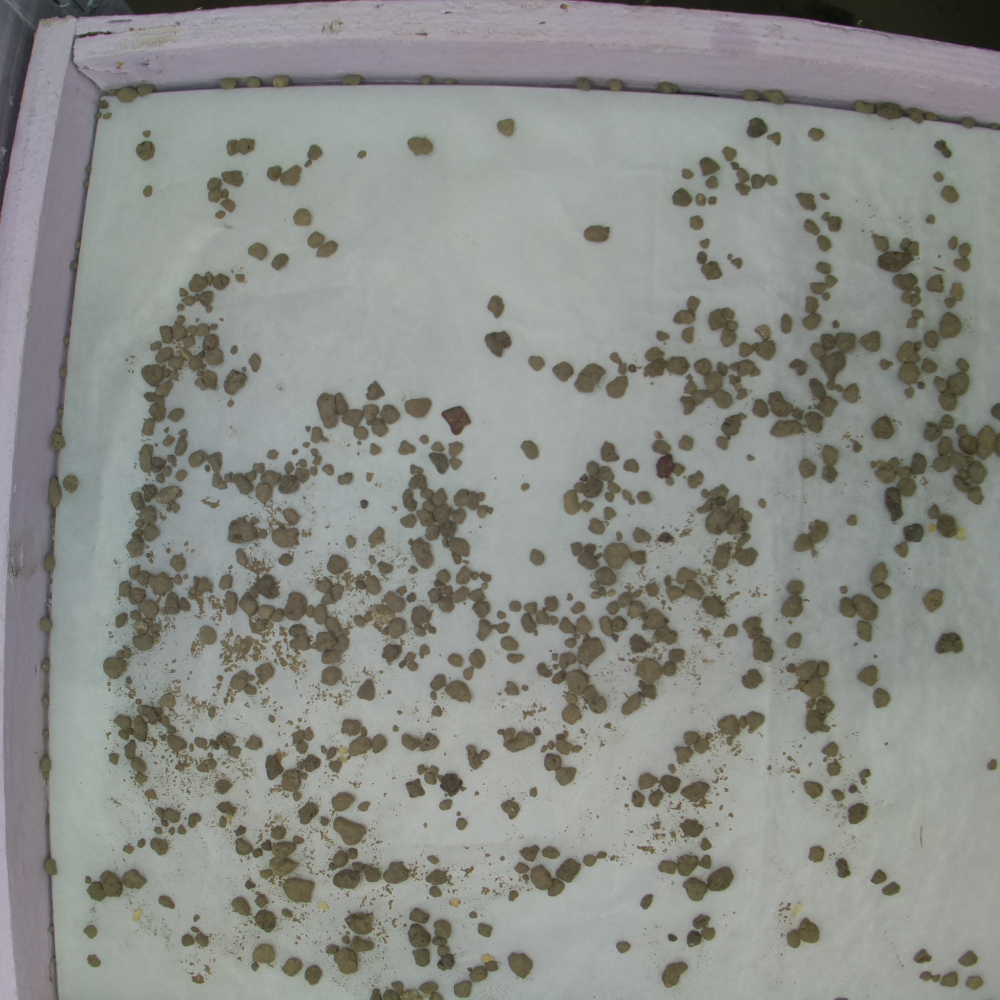mitti: (803, 707, 836, 737), (574, 364, 606, 393), (442, 407, 472, 435), (335, 818, 365, 844), (227, 518, 258, 543), (878, 251, 913, 273), (485, 331, 514, 357), (283, 879, 314, 903), (317, 393, 337, 429), (975, 424, 996, 458), (885, 487, 904, 523), (333, 947, 358, 974), (935, 631, 964, 654), (411, 537, 433, 567), (555, 858, 580, 884), (662, 962, 687, 988), (823, 351, 847, 378), (722, 413, 746, 440), (603, 543, 630, 567), (751, 636, 775, 663), (706, 867, 733, 891), (706, 507, 729, 535), (505, 732, 535, 753), (258, 573, 283, 598), (577, 638, 599, 666), (285, 591, 306, 620), (344, 913, 373, 934), (854, 595, 879, 619), (447, 679, 471, 704), (565, 669, 589, 694), (718, 715, 744, 738), (684, 878, 710, 901), (509, 952, 532, 978), (404, 398, 433, 418), (768, 392, 792, 416), (638, 658, 661, 683), (530, 865, 553, 890), (437, 772, 462, 795), (871, 416, 897, 438), (148, 574, 174, 596), (941, 312, 962, 339), (683, 782, 710, 803), (382, 863, 409, 884), (771, 420, 804, 437), (704, 595, 727, 619), (269, 857, 298, 876), (224, 369, 246, 394), (644, 609, 669, 631), (619, 693, 644, 715), (100, 871, 122, 896), (966, 457, 986, 484), (575, 478, 603, 497), (271, 528, 299, 547), (606, 374, 628, 398), (652, 455, 674, 479), (796, 659, 818, 683), (796, 679, 826, 696), (428, 451, 450, 474), (780, 595, 804, 616), (744, 710, 765, 734), (712, 544, 732, 569), (800, 919, 820, 944), (334, 869, 359, 889), (893, 273, 920, 291), (282, 164, 303, 187), (315, 633, 338, 654), (320, 667, 343, 688), (408, 925, 431, 946), (409, 137, 433, 157), (585, 224, 611, 242), (553, 361, 575, 382), (948, 372, 969, 394), (448, 536, 470, 557), (104, 658, 126, 679), (743, 617, 764, 639), (677, 855, 698, 877), (711, 390, 734, 410), (136, 598, 159, 618), (924, 589, 944, 612), (348, 738, 371, 758), (272, 842, 296, 861), (113, 85, 138, 103), (142, 365, 163, 386), (898, 342, 920, 362), (900, 363, 920, 385), (372, 604, 394, 624), (333, 792, 355, 812), (281, 769, 301, 791), (202, 347, 225, 366), (499, 801, 522, 820), (665, 357, 690, 374), (380, 404, 401, 424), (233, 473, 253, 494), (384, 592, 404, 613), (562, 704, 582, 725), (299, 802, 319, 823), (795, 193, 817, 212), (758, 339, 777, 361), (817, 395, 836, 417), (938, 515, 957, 537), (656, 625, 678, 644), (742, 670, 764, 689), (731, 548, 757, 564), (488, 295, 506, 318), (454, 489, 477, 507), (123, 870, 146, 888), (642, 360, 666, 377), (304, 963, 321, 987), (128, 634, 155, 649), (365, 380, 385, 400), (879, 103, 904, 119), (959, 435, 979, 455), (896, 476, 916, 496), (564, 490, 580, 515), (125, 538, 145, 558), (241, 591, 257, 616), (412, 608, 432, 628), (871, 561, 887, 586), (859, 665, 879, 685), (640, 772, 660, 792), (255, 911, 275, 931), (805, 412, 824, 433), (364, 574, 383, 595), (873, 689, 892, 710), (809, 378, 827, 400), (577, 552, 599, 570), (137, 707, 159, 725), (253, 944, 275, 962), (316, 241, 339, 258), (595, 568, 618, 585), (681, 820, 704, 837), (221, 171, 245, 187), (159, 483, 183, 499), (230, 670, 254, 686), (748, 118, 767, 138), (369, 417, 389, 436), (821, 464, 840, 484), (601, 442, 621, 461), (873, 581, 893, 600), (255, 663, 275, 682), (543, 753, 562, 773), (556, 766, 576, 785), (847, 804, 867, 823), (701, 262, 722, 280), (278, 475, 299, 493), (902, 523, 923, 541), (810, 521, 828, 542), (794, 534, 815, 552), (282, 959, 303, 977), (139, 444, 152, 473), (467, 745, 482, 770), (388, 616, 405, 638), (357, 678, 374, 700), (841, 596, 857, 619), (762, 90, 788, 104), (939, 392, 958, 411), (560, 617, 579, 636), (328, 555, 347, 574), (420, 733, 439, 752), (407, 779, 426, 798), (232, 897, 251, 916), (700, 157, 720, 175), (672, 189, 692, 207), (710, 309, 728, 329), (705, 372, 723, 392), (135, 142, 155, 160), (293, 208, 313, 226), (256, 482, 274, 502), (835, 334, 855, 352), (949, 452, 969, 470), (816, 694, 834, 714), (342, 409, 363, 426), (860, 332, 881, 349), (822, 445, 839, 466), (401, 489, 418, 510), (857, 622, 874, 643), (362, 865, 383, 882), (872, 468, 897, 482), (267, 755, 281, 780), (476, 617, 491, 640), (694, 358, 713, 376), (248, 243, 267, 261), (842, 384, 861, 402), (925, 422, 943, 441), (674, 745, 692, 764), (401, 734, 420, 752), (329, 851, 348, 869), (87, 882, 105, 901), (496, 119, 516, 136), (202, 370, 219, 390), (520, 614, 537, 634), (384, 644, 401, 664), (548, 877, 565, 897), (134, 715, 147, 741), (335, 392, 349, 416), (912, 454, 928, 475), (730, 516, 751, 532), (351, 936, 373, 951), (49, 477, 60, 507), (851, 100, 876, 113), (721, 145, 739, 163), (737, 359, 755, 377), (155, 379, 173, 397), (416, 509, 434, 527), (934, 456, 953, 473), (798, 458, 815, 477), (685, 581, 704, 598), (630, 634, 647, 653), (640, 681, 657, 700), (433, 504, 450, 523), (412, 949, 431, 966), (165, 592, 179, 615), (208, 452, 224, 472), (954, 475, 974, 491), (968, 484, 984, 504), (786, 579, 806, 595), (471, 649, 487, 669), (363, 404, 378, 425), (144, 391, 165, 406), (802, 314, 823, 329), (426, 870, 447, 885), (435, 917, 450, 938), (673, 310, 695, 324), (803, 218, 820, 236), (720, 328, 737, 346), (522, 441, 539, 459), (148, 403, 166, 420), (189, 450, 207, 467), (941, 186, 959, 203), (734, 533, 751, 551), (628, 601, 646, 618), (139, 505, 157, 522), (194, 576, 211, 594), (200, 627, 217, 645), (589, 695, 606, 713), (682, 730, 700, 747), (680, 396, 696, 415), (927, 274, 943, 293), (438, 521, 457, 537), (369, 527, 385, 546), (804, 782, 823, 798), (371, 733, 387, 752), (651, 439, 671, 454), (320, 651, 340, 666), (657, 81, 680, 94), (224, 591, 238, 612), (287, 624, 308, 638), (288, 637, 309, 651), (334, 633, 348, 654), (790, 359, 807, 376), (933, 376, 950, 393), (400, 514, 417, 531), (141, 485, 158, 502), (128, 491, 145, 508), (168, 733, 185, 750), (218, 733, 235, 750), (733, 180, 751, 196), (817, 234, 833, 252), (692, 389, 710, 405), (934, 141, 952, 157), (924, 331, 940, 349), (633, 527, 651, 543), (559, 651, 575, 669), (432, 488, 448, 506), (662, 777, 680, 793), (959, 951, 977, 967), (342, 720, 360, 736), (780, 313, 793, 335), (307, 233, 326, 248), (710, 484, 729, 499), (599, 617, 614, 636), (409, 474, 428, 489), (521, 846, 540, 861), (410, 907, 429, 922), (469, 965, 488, 980), (644, 347, 664, 361), (351, 425, 371, 439), (249, 352, 262, 373), (190, 274, 206, 291), (171, 324, 188, 340), (872, 235, 889, 251), (810, 343, 827, 359), (687, 471, 703, 488), (666, 585, 683, 601), (284, 508, 301, 524), (430, 675, 446, 692), (809, 845, 825, 862), (454, 981, 471, 997), (151, 839, 168, 855), (240, 137, 255, 155), (155, 347, 173, 362), (64, 475, 79, 493), (453, 586, 468, 604), (323, 618, 341, 633), (630, 790, 645, 808), (134, 83, 153, 97), (215, 80, 239, 91), (40, 755, 51, 779), (574, 78, 594, 91), (490, 621, 510, 634), (529, 356, 545, 372), (449, 441, 465, 457), (207, 188, 223, 204), (214, 274, 230, 290), (258, 604, 274, 620), (474, 601, 490, 617), (694, 737, 710, 753), (871, 870, 887, 886), (808, 127, 825, 142), (244, 76, 261, 91), (575, 616, 590, 633), (535, 609, 550, 626), (456, 566, 471, 583), (143, 524, 160, 539), (329, 583, 344, 600), (557, 739, 572, 756), (823, 743, 840, 758), (941, 972, 958, 987), (806, 296, 820, 314), (159, 326, 173, 344), (262, 470, 280, 484), (755, 399, 769, 417), (816, 660, 830, 678), (501, 637, 519, 651), (836, 860, 850, 878), (913, 950, 931, 964), (437, 955, 455, 969), (309, 144, 322, 163), (938, 437, 951, 456), (678, 568, 697, 581), (377, 561, 396, 574), (314, 604, 327, 623), (399, 440, 415, 455), (267, 166, 282, 182), (273, 254, 288, 270), (954, 257, 970, 272), (921, 358, 937, 373), (698, 498, 714, 513), (892, 466, 912, 478), (598, 467, 614, 482), (590, 518, 605, 534), (617, 591, 632, 607), (670, 648, 686, 663), (469, 588, 484, 604), (787, 633, 802, 649), (448, 652, 463, 668), (537, 662, 552, 678), (825, 760, 841, 775), (419, 982, 439, 994), (236, 839, 252, 854), (225, 138, 239, 155), (203, 334, 220, 348), (908, 109, 925, 123), (726, 496, 740, 513), (623, 458, 640, 472), (128, 587, 145, 601), (542, 846, 559, 860), (687, 931, 701, 948), (114, 716, 131, 730), (306, 755, 320, 772), (810, 282, 828, 295), (951, 282, 964, 300), (659, 860, 677, 873), (587, 460, 599, 479), (788, 929, 800, 948), (751, 174, 766, 189), (827, 216, 842, 231), (678, 435, 693, 450), (645, 582, 660, 597), (425, 524, 440, 539), (170, 555, 185, 570), (439, 595, 454, 610), (551, 670, 566, 685), (391, 981, 406, 996), (50, 434, 65, 449), (755, 326, 771, 340), (739, 342, 753, 358), (821, 333, 835, 349), (544, 597, 560, 611), (254, 618, 268, 634), (802, 697, 818, 711), (650, 791, 664, 807), (884, 881, 898, 897), (967, 976, 983, 990), (43, 859, 57, 875), (246, 736, 262, 750), (200, 288, 213, 305), (118, 581, 131, 598), (125, 739, 136, 759), (764, 173, 779, 187), (690, 215, 704, 230), (687, 296, 701, 311), (340, 76, 361, 86), (189, 355, 203, 370), (295, 469, 310, 483), (849, 438, 864, 452), (631, 550, 646, 564), (612, 616, 627, 630), (564, 691, 579, 705), (217, 779, 231, 794), (202, 498, 221, 509), (237, 548, 248, 567), (816, 262, 832, 275), (167, 356, 183, 369), (168, 408, 184, 421), (893, 543, 909, 556), (522, 602, 538, 615), (452, 507, 465, 523), (278, 553, 294, 566), (115, 611, 128, 627), (270, 826, 286, 839), (142, 418, 154, 435), (959, 241, 971, 258), (319, 593, 336, 605), (742, 90, 762, 100), (175, 438, 186, 456), (705, 176, 719, 190), (737, 168, 751, 182), (825, 275, 839, 289), (222, 199, 236, 213), (671, 462, 685, 476), (940, 414, 954, 428), (737, 508, 751, 522), (607, 480, 621, 494), (128, 565, 142, 579), (437, 570, 451, 584), (694, 915, 708, 929), (702, 926, 716, 940), (477, 922, 491, 936), (609, 351, 622, 366), (449, 456, 464, 469), (207, 178, 222, 191), (152, 457, 165, 472), (532, 550, 545, 565), (148, 621, 161, 636), (584, 686, 597, 701), (160, 896, 175, 909), (132, 757, 145, 772), (165, 809, 180, 822), (658, 531, 674, 543), (514, 862, 530, 874), (44, 554, 56, 570), (189, 813, 201, 829), (401, 990, 420, 1000), (683, 327, 694, 344), (479, 746, 490, 763), (769, 133, 782, 147), (684, 381, 698, 394), (177, 345, 191, 358), (957, 358, 971, 371), (604, 507, 617, 521), (135, 572, 149, 585), (429, 588, 442, 602), (506, 682, 519, 696), (699, 839, 713, 852), (160, 694, 174, 707), (879, 358, 894, 370), (718, 433, 730, 448), (570, 601, 585, 613), (607, 599, 619, 614), (133, 620, 148, 632), (582, 855, 597, 867), (344, 847, 359, 859), (219, 802, 234, 814), (419, 499, 435, 510), (337, 473, 353, 484), (273, 607, 284, 623), (40, 616, 51, 632), (182, 334, 195, 347), (219, 575, 232, 588), (699, 855, 712, 868), (255, 894, 268, 907), (197, 322, 209, 336), (607, 78, 621, 90), (928, 504, 940, 518), (510, 599, 522, 613), (717, 361, 728, 376), (961, 117, 976, 128), (582, 543, 597, 554), (409, 464, 424, 475), (420, 488, 435, 499), (179, 597, 190, 612), (293, 730, 304, 745), (272, 77, 288, 87), (212, 473, 222, 489), (312, 427, 322, 443), (680, 168, 693, 180), (723, 308, 736, 320), (369, 443, 382, 455), (193, 377, 205, 390), (825, 378, 837, 391), (792, 407, 805, 419), (956, 424, 968, 437), (570, 542, 583, 554), (449, 552, 462, 564), (503, 728, 515, 741), (618, 942, 631, 954), (424, 772, 436, 785), (329, 760, 341, 773), (196, 933, 208, 946), (284, 461, 295, 475), (908, 242, 919, 256), (637, 492, 651, 503), (164, 500, 178, 511), (355, 614, 366, 628), (641, 895, 652, 909), (350, 860, 364, 871), (87, 955, 101, 966), (191, 973, 205, 984), (417, 75, 434, 84), (731, 258, 743, 270), (419, 434, 431, 446), (253, 462, 265, 474), (927, 111, 939, 123), (464, 666, 473, 682), (507, 654, 523, 663), (832, 790, 844, 802), (656, 330, 669, 341), (736, 388, 749, 399), (181, 295, 194, 306), (167, 454, 178, 467), (246, 470, 257, 483), (580, 501, 593, 512), (665, 662, 676, 675), (170, 574, 183, 585), (724, 625, 737, 636), (432, 705, 443, 718), (987, 758, 998, 771), (415, 764, 428, 775), (84, 926, 97, 937), (431, 442, 445, 452), (204, 272, 214, 286), (902, 290, 912, 304), (457, 816, 467, 830), (484, 961, 498, 971), (382, 990, 396, 1000), (326, 944, 340, 954), (887, 457, 902, 466), (696, 194, 707, 206), (616, 363, 628, 374), (221, 188, 232, 200), (169, 368, 180, 380), (162, 435, 174, 446), (913, 307, 924, 319), (663, 473, 674, 485), (958, 469, 969, 481), (247, 587, 259, 598), (495, 609, 507, 620), (860, 767, 872, 778), (229, 746, 240, 758), (296, 742, 307, 754), (697, 251, 707, 264), (161, 366, 171, 379), (847, 514, 857, 527), (476, 505, 486, 518), (131, 527, 144, 537), (187, 588, 200, 598), (439, 800, 452, 810), (436, 946, 449, 956), (357, 801, 370, 811), (949, 237, 958, 251), (127, 610, 141, 619), (304, 727, 313, 741), (626, 362, 637, 373), (176, 470, 187, 481), (323, 464, 334, 475), (353, 577, 364, 588), (405, 652, 416, 663), (419, 646, 430, 657), (430, 885, 441, 896), (369, 989, 380, 1000), (182, 935, 193, 946), (727, 320, 739, 330), (150, 340, 162, 350), (267, 450, 279, 460), (900, 239, 910, 251), (906, 318, 918, 328), (904, 388, 916, 398), (992, 403, 1000, 418), (396, 586, 408, 596), (406, 591, 416, 603), (245, 684, 257, 694), (135, 773, 147, 783), (195, 738, 207, 748), (589, 580, 602, 589), (346, 535, 355, 548), (59, 364, 68, 377), (327, 747, 336, 760), (700, 238, 711, 248), (234, 273, 245, 283), (995, 432, 1000, 454), (604, 491, 614, 502), (596, 587, 606, 598), (549, 614, 559, 625), (358, 499, 369, 509), (303, 607, 313, 618), (407, 661, 417, 672), (119, 730, 129, 741), (210, 738, 220, 749), (261, 868, 271, 879), (235, 824, 245, 835), (143, 185, 152, 197), (565, 638, 577, 647), (434, 937, 446, 946), (41, 659, 50, 671), (145, 790, 157, 799), (739, 717, 747, 730), (729, 361, 739, 371), (99, 99, 109, 109), (187, 325, 197, 335), (162, 465, 172, 475), (308, 466, 318, 476), (911, 296, 921, 306), (758, 498, 768, 508), (468, 500, 478, 510), (528, 787, 538, 797), (429, 765, 439, 775), (175, 761, 185, 771), (262, 840, 272, 850), (252, 848, 262, 858), (820, 192, 831, 201), (820, 291, 831, 300), (97, 90, 108, 99), (945, 298, 956, 307), (834, 383, 843, 394), (664, 576, 673, 587), (480, 572, 491, 581), (442, 586, 453, 595), (785, 663, 796, 672), (509, 891, 518, 902), (123, 846, 134, 855), (109, 753, 118, 764), (245, 881, 256, 890), (441, 78, 457, 84), (121, 648, 133, 656), (874, 460, 887, 467), (729, 162, 739, 171), (752, 367, 761, 377), (178, 288, 188, 297), (177, 315, 187, 324), (230, 345, 239, 355), (178, 429, 188, 438), (224, 473, 233, 483), (313, 455, 322, 465), (934, 172, 944, 181), (580, 474, 590, 483), (622, 490, 632, 499), (580, 632, 590, 641), (532, 727, 542, 736), (921, 972, 931, 981), (930, 973, 940, 982), (160, 717, 170, 726), (198, 762, 207, 772), (190, 925, 200, 934), (751, 341, 759, 352), (141, 129, 152, 137), (356, 151, 367, 159), (297, 460, 308, 468), (914, 341, 922, 352), (714, 497, 725, 505), (366, 472, 374, 483), (426, 856, 437, 864), (156, 808, 164, 819), (293, 836, 304, 844), (282, 910, 293, 918), (95, 110, 102, 122), (365, 611, 372, 623), (708, 196, 717, 205), (822, 212, 831, 221), (109, 89, 118, 98), (927, 214, 936, 223), (477, 492, 486, 501), (135, 517, 144, 526), (573, 745, 582, 754), (521, 874, 530, 883), (358, 726, 367, 735), (468, 911, 477, 920), (155, 474, 165, 482), (441, 537, 449, 547), (471, 571, 479, 581), (124, 675, 132, 685), (547, 740, 555, 750), (849, 785, 859, 793), (596, 851, 606, 859), (341, 933, 349, 943), (207, 759, 215, 769), (554, 734, 567, 740), (730, 374, 737, 385), (369, 555, 376, 566), (408, 567, 419, 574), (734, 382, 742, 391), (196, 368, 205, 376), (219, 482, 228, 490), (655, 430, 663, 439), (701, 489, 709, 498), (611, 634, 620, 642), (840, 586, 849, 594), (668, 934, 677, 942), (137, 839, 146, 847), (154, 707, 163, 715), (167, 725, 176, 733), (177, 825, 185, 834), (296, 761, 304, 770), (268, 714, 276, 723), (303, 160, 313, 167), (990, 122, 1000, 129), (479, 582, 489, 589), (433, 580, 443, 587), (431, 690, 438, 700), (521, 483, 529, 491), (310, 448, 318, 456), (747, 454, 755, 462), (634, 589, 642, 597), (486, 506, 494, 514), (300, 772, 308, 780), (320, 817, 328, 825), (204, 306, 213, 313), (175, 304, 184, 311), (210, 323, 219, 330), (227, 399, 234, 408), (302, 441, 311, 448), (566, 593, 573, 602), (406, 537, 413, 546), (429, 625, 436, 634), (400, 659, 407, 668), (497, 728, 506, 735), (670, 764, 677, 773), (320, 744, 327, 753), (616, 531, 622, 541), (115, 651, 125, 657), (429, 995, 441, 1000), (365, 419, 372, 427), (198, 350, 205, 358), (241, 365, 248, 373), (292, 448, 300, 455), (321, 435, 328, 443), (914, 286, 921, 294), (918, 383, 926, 390), (591, 591, 599, 598), (144, 619, 152, 626), (423, 622, 431, 629), (54, 427, 62, 434), (154, 827, 162, 834), (193, 914, 200, 922), (43, 696, 48, 707), (830, 321, 839, 327), (552, 652, 558, 661), (169, 827, 175, 836), (221, 817, 226, 827), (726, 254, 733, 261), (553, 663, 560, 670), (521, 684, 528, 691), (859, 778, 866, 785), (84, 876, 91, 883), (135, 699, 142, 706), (127, 727, 134, 734), (161, 820, 168, 827), (252, 963, 259, 970), (104, 113, 112, 119), (193, 293, 199, 301), (204, 464, 210, 472), (870, 460, 876, 468), (166, 547, 172, 555), (685, 375, 694, 380), (627, 500, 636, 505), (705, 733, 714, 738), (57, 407, 62, 416), (596, 552, 602, 559), (183, 540, 189, 547), (541, 745, 547, 752), (48, 925, 54, 932), (164, 426, 169, 434), (573, 633, 581, 638), (43, 731, 48, 739), (189, 744, 194, 752), (356, 440, 362, 446), (532, 630, 538, 636), (144, 543, 150, 549), (736, 376, 741, 383), (305, 426, 310, 433), (148, 558, 153, 565), (365, 571, 372, 576), (563, 730, 568, 737), (288, 719, 293, 726), (462, 560, 470, 564), (183, 573, 188, 579), (208, 752, 213, 758), (467, 966, 472, 971), (219, 317, 223, 322), (146, 554, 151, 558), (297, 718, 302, 722), (649, 382, 654, 385), (195, 318, 199, 321)
